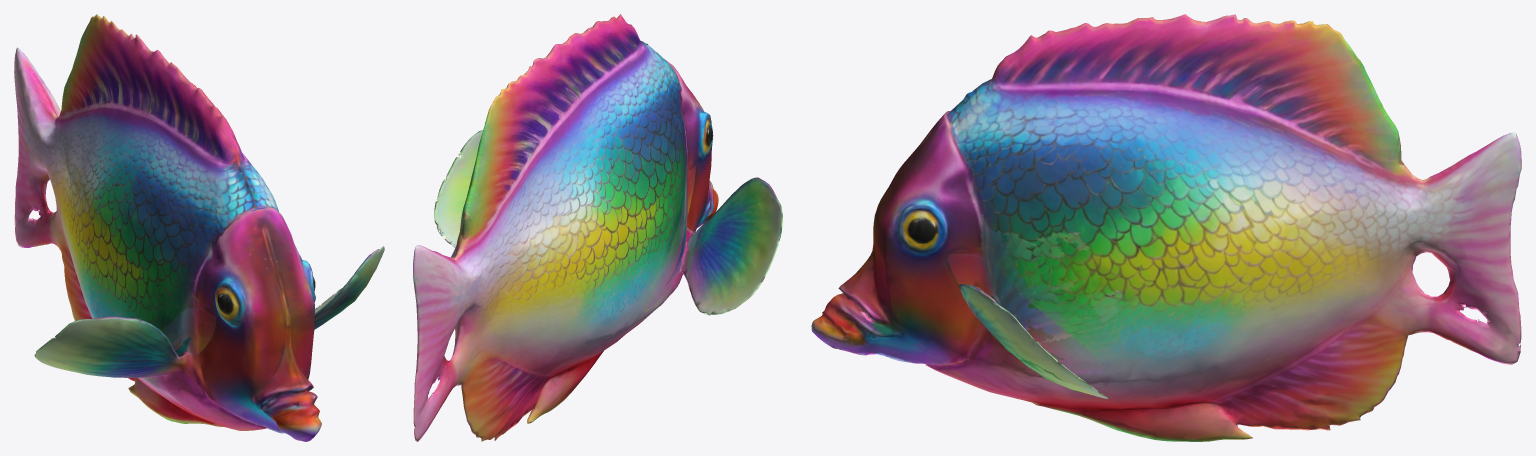
The model's file is RainbowFish.glb.
3 views of the same model, side by side, from view 1: azimuth 30°, elevation 25°; view 2: azimuth 150°, elevation 25°; view 3: azimuth 270°, elevation 25° (orthographic). The views are drawn at different scales.
Visible parts, largest first — view 1: Mesh1; view 2: Mesh1; view 3: Mesh1.
Boxes of the visible parts, x1=… form: Mesh1: x1=14, y1=14, x2=384, y2=441; Mesh1: x1=413, y1=14, x2=782, y2=441; Mesh1: x1=811, y1=14, x2=1521, y2=441.
Bounding box in the file's own units: 1.27 × 1.33 × 2.
Materials: 1 (1 with a texture image).
